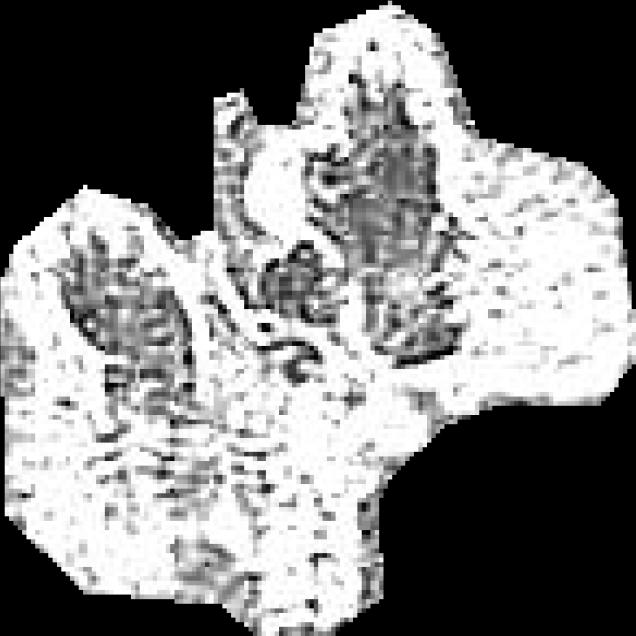tumor_moderate_chance: (0, 1, 636, 636)
